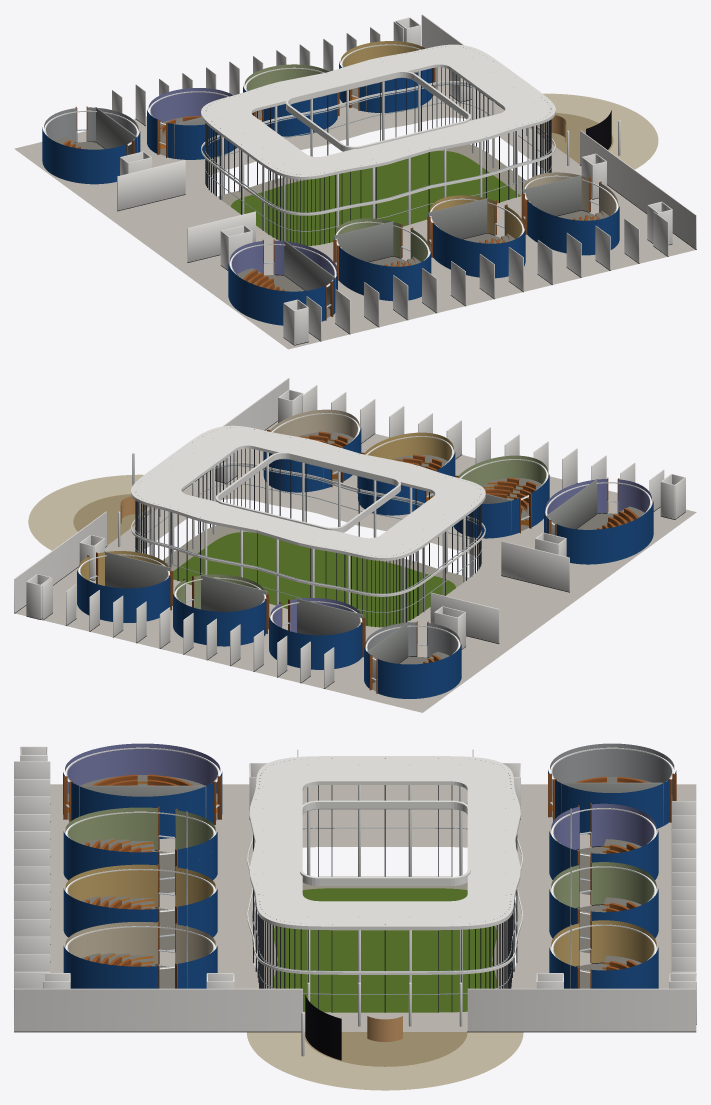
Rendered from building.glb.
3 renders of one model, top to bottom at view 1: azimuth 30°, elevation 25°; view 2: azimuth 150°, elevation 25°; view 3: azimuth 270°, elevation 25°, orthographic. The views are drawn at different scales.
Visible parts, largest first — view 1: bake_floor__carpet, bake_walls__white, bake_canopy__canopy, bake_lawn__lawn, bake_walls__sage, bake_mullions__mullion, bake_columns__column, bake_terrace__stone, bake_drum_2200__drum, bake_drum_2400__drum, bake_drum_2430__drum, bake_drum_2410__drum (+23 smaller); view 2: bake_floor__carpet, bake_walls__white, bake_canopy__canopy, bake_lawn__lawn, bake_walls__sage, bake_mullions__mullion, bake_terrace__stone, bake_columns__column, bake_drum_2400__drum, bake_drum_2200__drum, bake_drum_2210__drum, bake_drum_2230__drum (+22 smaller); view 3: bake_walls__white, bake_floor__carpet, bake_canopy__canopy, bake_lawn__lawn, bake_terrace__stone, bake_mullions__mullion, bake_drumin_2400__drumIn0, bake_drumin_2420__drumIn2, bake_drumin_2430__drumIn3, bake_drumin_2410__drumIn1, bake_drumin_2200__drumIn4, bake_fascia__canopy (+27 smaller).
Part boxes in pixels (bbox=[...]): bake_floor__carpet: bbox=[14, 67, 695, 349]; bake_walls__white: bbox=[112, 14, 696, 344]; bake_canopy__canopy: bbox=[201, 44, 555, 179]; bake_lawn__lawn: bbox=[230, 151, 520, 245]; bake_walls__sage: bbox=[95, 71, 582, 308]; bake_mullions__mullion: bbox=[205, 46, 551, 245]; bake_columns__column: bbox=[221, 52, 569, 240]; bake_terrace__stone: bbox=[543, 93, 658, 169]; bake_drum_2200__drum: bbox=[42, 127, 140, 184]; bake_drum_2400__drum: bbox=[228, 263, 337, 325]; bake_drum_2430__drum: bbox=[522, 191, 619, 255]; bake_drum_2410__drum: bbox=[334, 238, 431, 301]; bake_floor__carpet: bbox=[15, 421, 696, 712]; bake_walls__white: bbox=[14, 378, 685, 688]; bake_canopy__canopy: bbox=[131, 425, 485, 560]; bake_lawn__lawn: bbox=[173, 532, 455, 627]; bake_walls__sage: bbox=[104, 468, 597, 682]; bake_mullions__mullion: bbox=[135, 427, 481, 627]; bake_terrace__stone: bbox=[28, 474, 143, 550]; bake_columns__column: bbox=[118, 434, 465, 622]; bake_drum_2400__drum: bbox=[544, 501, 653, 564]; bake_drum_2200__drum: bbox=[364, 644, 461, 698]; bake_drum_2210__drum: bbox=[269, 616, 362, 669]; bake_drum_2230__drum: bbox=[77, 570, 170, 622]; bake_walls__white: bbox=[14, 746, 696, 1031]; bake_floor__carpet: bbox=[50, 784, 696, 1031]; bake_canopy__canopy: bbox=[249, 756, 520, 930]; bake_lawn__lawn: bbox=[274, 888, 496, 1012]; bake_terrace__stone: bbox=[247, 1032, 523, 1090]; bake_mullions__mullion: bbox=[253, 758, 517, 1012]; bake_drumin_2400__drumIn0: bbox=[65, 743, 220, 793]; bake_drumin_2420__drumIn2: bbox=[65, 864, 215, 907]; bake_drumin_2430__drumIn3: bbox=[65, 922, 215, 964]; bake_drumin_2410__drumIn1: bbox=[65, 807, 215, 850]; bake_drumin_2200__drumIn4: bbox=[550, 743, 674, 794]; bake_fascia__canopy: bbox=[300, 800, 470, 885].
Size of the model in its own units: 110 by 20.1 by 104.
